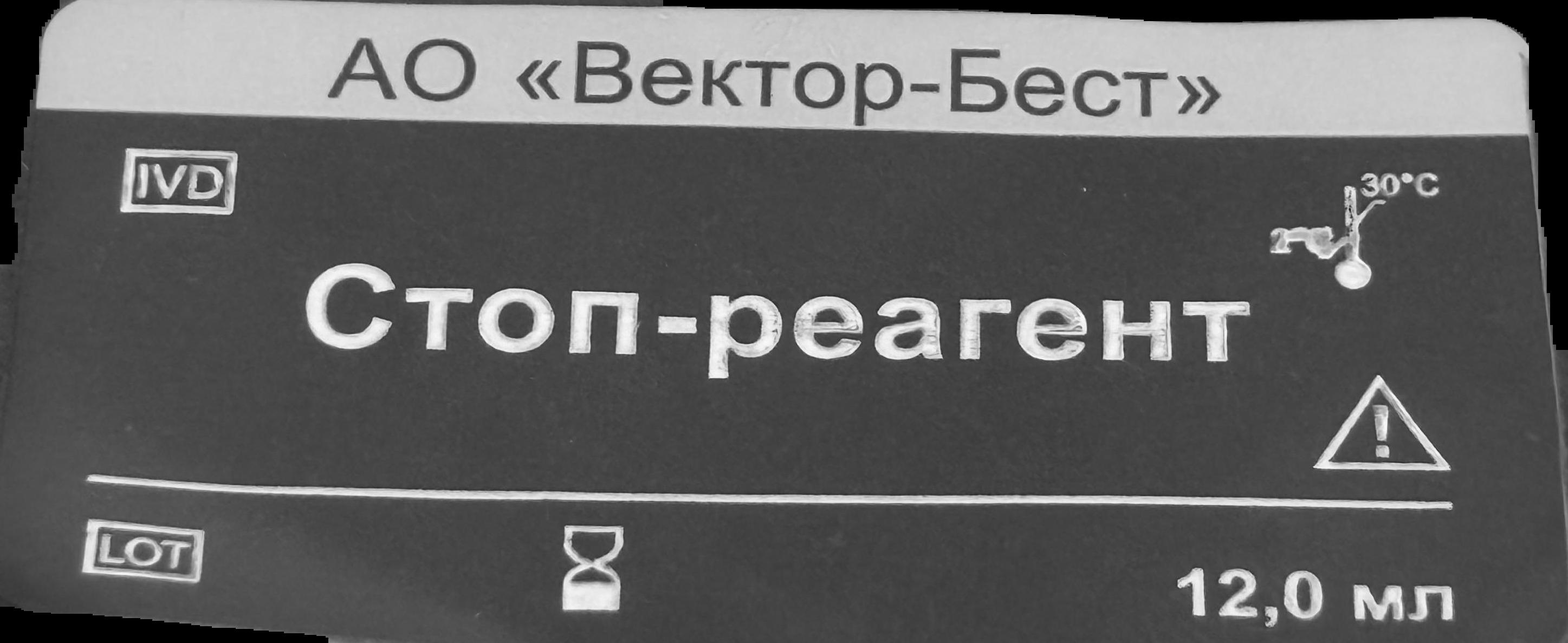something: (1266, 167, 1444, 294), (1313, 377, 1454, 476), (121, 141, 238, 222), (83, 514, 206, 591), (561, 518, 626, 618)
text: (291, 255, 1253, 384), (322, 29, 1226, 132), (1173, 561, 1459, 633)
